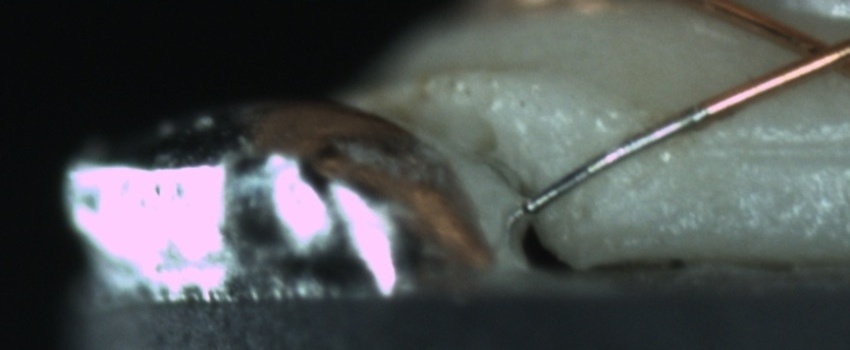CL: (769, 17, 849, 84)
DL: (691, 112, 849, 179)
TS: (525, 105, 709, 219)
TTCW: (516, 74, 739, 216)
